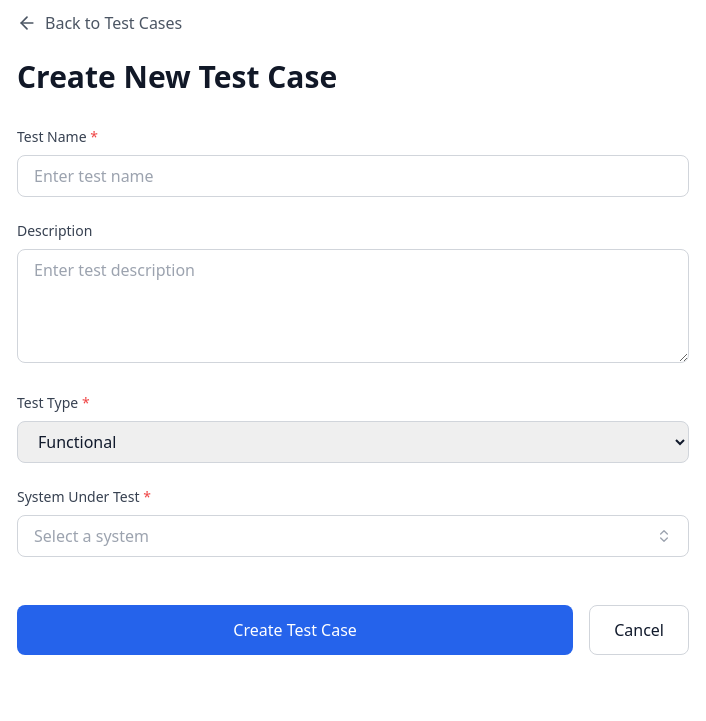
Test: TestCaseForm › Validation › should require test name
Click the button "Create Test Case" at (295, 630), box top-left (17, 605), bottom-right (573, 655)
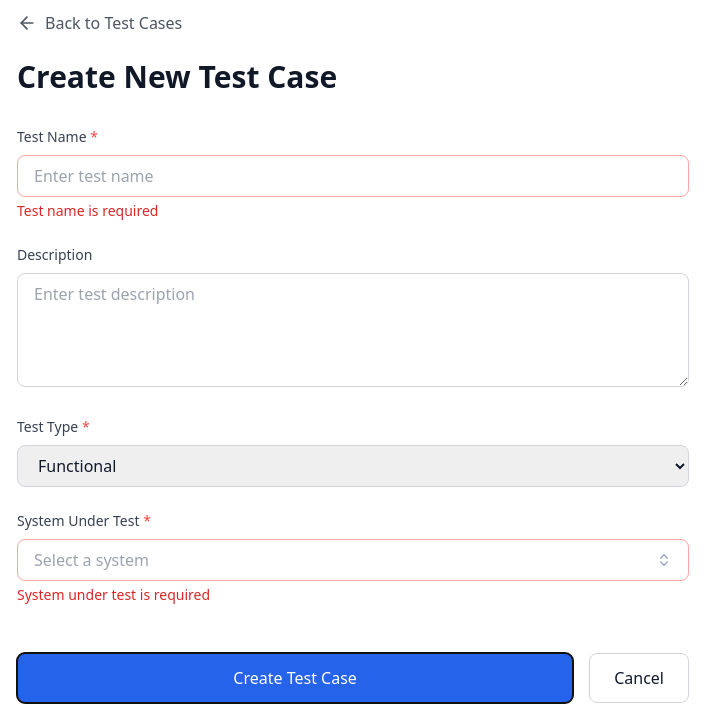
Check: the text "Test name is required" is shown, box top-left (17, 201), bottom-right (158, 220)
